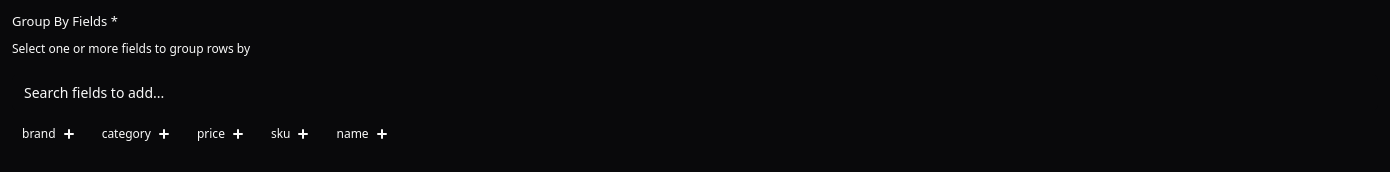
Test: GroupByPicker › shows message when no columns match search
The image size is (1390, 172).
Type "xyz" into the field with placeholder "Search fields to add..." at (695, 92), box [12, 74, 1378, 110]
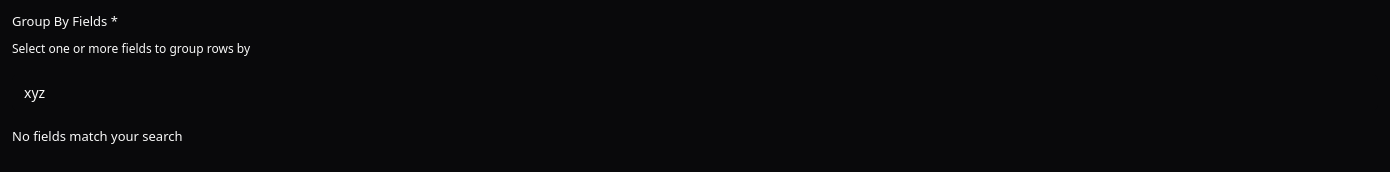
Check: the text "No fields match your search" is shown, box [12, 126, 183, 144]
